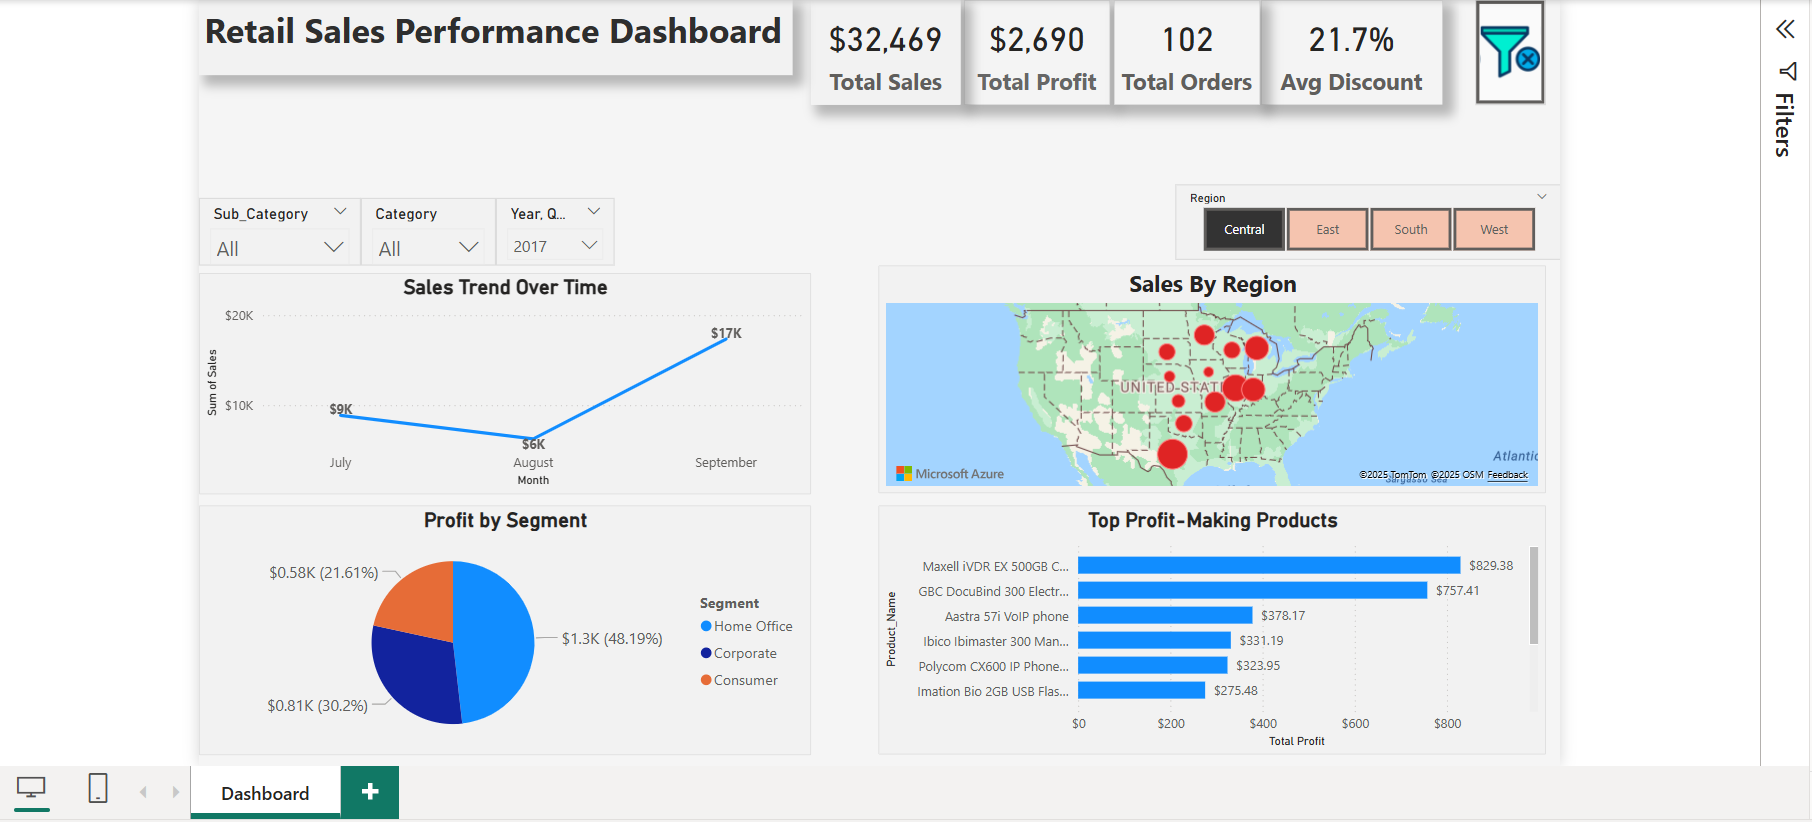

The dashboard page shown, as its layout file describes it:
{"tool":"powerbi","page":{"name":"Dashboard","canvas":[1280,720],"ordinal":0},"visuals":[{"type":"card","fields":{"Values":["Cleaned_Sample_Superstore.Total Profit"]},"box":[719.5,0,137.5,98.5],"z":0},{"type":"card","fields":{"Values":["Cleaned_Sample_Superstore.Total Sales"]},"box":[575.2,0,140.7,98.5],"z":1000},{"type":"card","fields":{"Values":["Cleaned_Sample_Superstore.Avg Discount"]},"box":[998.7,0,170.4,98.5],"z":2000},{"type":"slicer","fields":{"Values":["Cleaned_Sample_Superstore.Order_Date.Variation.Date Hierarchy.Year","Cleaned_Sample_Superstore.Order_Date.Variation.Date Hierarchy.Quarter","Cleaned_Sample_Superstore.Order_Date.Variation.Date Hierarchy.Month","Cleaned_Sample_Superstore.Order_Date.Variation.Date Hierarchy.Day"]},"box":[279.2,186.1,111.4,63.4],"z":3000},{"type":"slicer","fields":{"Values":["Cleaned_Sample_Superstore.Region"]},"box":[917.9,173.4,362.4,70.5],"z":4000},{"type":"slicer","fields":{"Values":["Cleaned_Sample_Superstore.Category"]},"box":[152.3,186.1,126.9,63.4],"z":5000},{"type":"slicer","fields":{"Values":["Cleaned_Sample_Superstore.Sub_Category"]},"box":[0,186.1,152.3,63.4],"z":6000},{"type":"azureMap","title":"Sales By Region","fields":{"Category":["Cleaned_Sample_Superstore.State"],"Size":["Cleaned_Sample_Superstore.Total Sales"]},"box":[638.7,249.6,627.4,214.3],"z":7000},{"type":"lineChart","title":"Sales Trend Over Time","fields":{"Category":["Cleaned_Sample_Superstore.Order_Date.Variation.Date Hierarchy.Year","Cleaned_Sample_Superstore.Order_Date.Variation.Date Hierarchy.Quarter","Cleaned_Sample_Superstore.Order_Date.Variation.Date Hierarchy.Month","Cleaned_Sample_Superstore.Order_Date.Variation.Date Hierarchy.Day"],"Y":["Sum(Cleaned_Sample_Superstore. Sales )"]},"box":[0,256.1,575.2,207.9],"z":8000},{"type":"clusteredBarChart","title":"Top Profit-Making Products","fields":{"Category":["Cleaned_Sample_Superstore.Product_Name"],"Y":["Cleaned_Sample_Superstore.Total Profit"]},"box":[638.7,475.2,627.4,234.1],"z":9000},{"type":"card","fields":{"Values":["Cleaned_Sample_Superstore.Total Orders"]},"box":[860.7,0,137.5,98.5],"z":10000},{"type":"textbox","box":[0,0,558,70.3],"z":11000},{"type":"pieChart","title":"Profit by Segment","fields":{"Category":["Cleaned_Sample_Superstore.Segment"],"Y":["Cleaned_Sample_Superstore.Total Profit"]},"box":[0,475.1,575.2,234.4],"z":12000},{"type":"actionButton","box":[1199.9,0,66.3,98.7],"z":13000}]}

Visuals, with their boxes on the page's 1280x720 design canvas (x1, y1, x2, y2). These are canvas units, not pixel positions in the 1812x822 screenshot, which may show the page scaled, cropped or inside an application window:
card - Cleaned_Sample_Superstore.Total Profit: {"left": 720, "top": 0, "right": 857, "bottom": 98}
card - Cleaned_Sample_Superstore.Total Sales: {"left": 575, "top": 0, "right": 716, "bottom": 98}
card - Cleaned_Sample_Superstore.Avg Discount: {"left": 999, "top": 0, "right": 1169, "bottom": 98}
slicer - Cleaned_Sample_Superstore.Order_Date.Variation.Date Hierarchy.Year x Cleaned_Sample_Superstore.Order_Date.Variation.Date Hierarchy.Quarter: {"left": 279, "top": 186, "right": 391, "bottom": 250}
slicer - Cleaned_Sample_Superstore.Region: {"left": 918, "top": 173, "right": 1280, "bottom": 244}
slicer - Cleaned_Sample_Superstore.Category: {"left": 152, "top": 186, "right": 279, "bottom": 250}
slicer - Cleaned_Sample_Superstore.Sub_Category: {"left": 0, "top": 186, "right": 152, "bottom": 250}
"Sales By Region" azureMap: {"left": 639, "top": 250, "right": 1266, "bottom": 464}
"Sales Trend Over Time" lineChart: {"left": 0, "top": 256, "right": 575, "bottom": 464}
"Top Profit-Making Products" clusteredBarChart: {"left": 639, "top": 475, "right": 1266, "bottom": 709}
card - Cleaned_Sample_Superstore.Total Orders: {"left": 861, "top": 0, "right": 998, "bottom": 98}
textbox: {"left": 0, "top": 0, "right": 558, "bottom": 70}
"Profit by Segment" pieChart: {"left": 0, "top": 475, "right": 575, "bottom": 710}
actionButton: {"left": 1200, "top": 0, "right": 1266, "bottom": 99}
